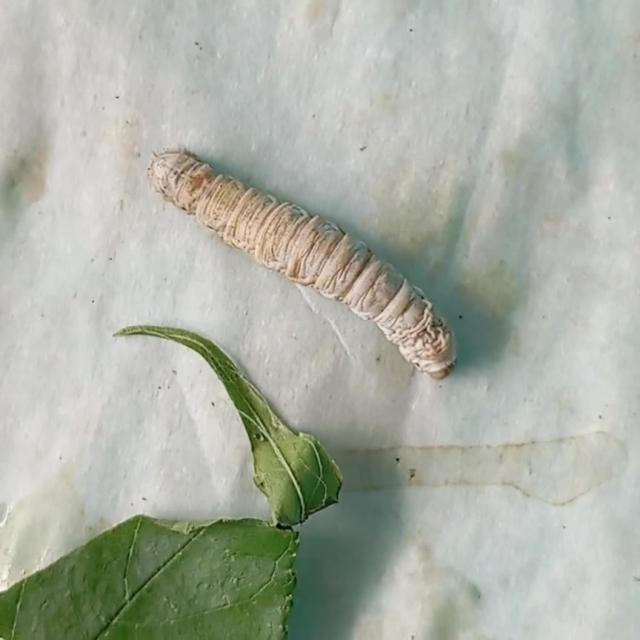Grasserie: (133, 129, 504, 413)
